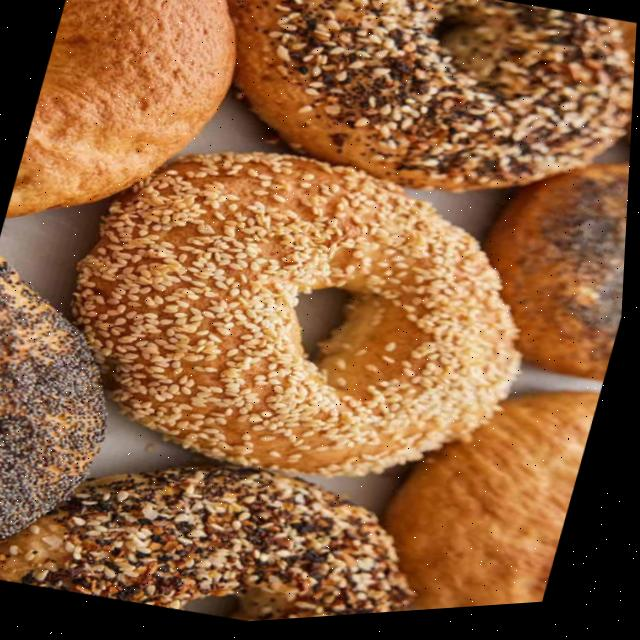Bagel: (73, 156, 524, 481), (225, 0, 635, 198), (0, 469, 417, 625), (8, 0, 234, 216), (389, 399, 603, 616), (487, 172, 632, 388)
